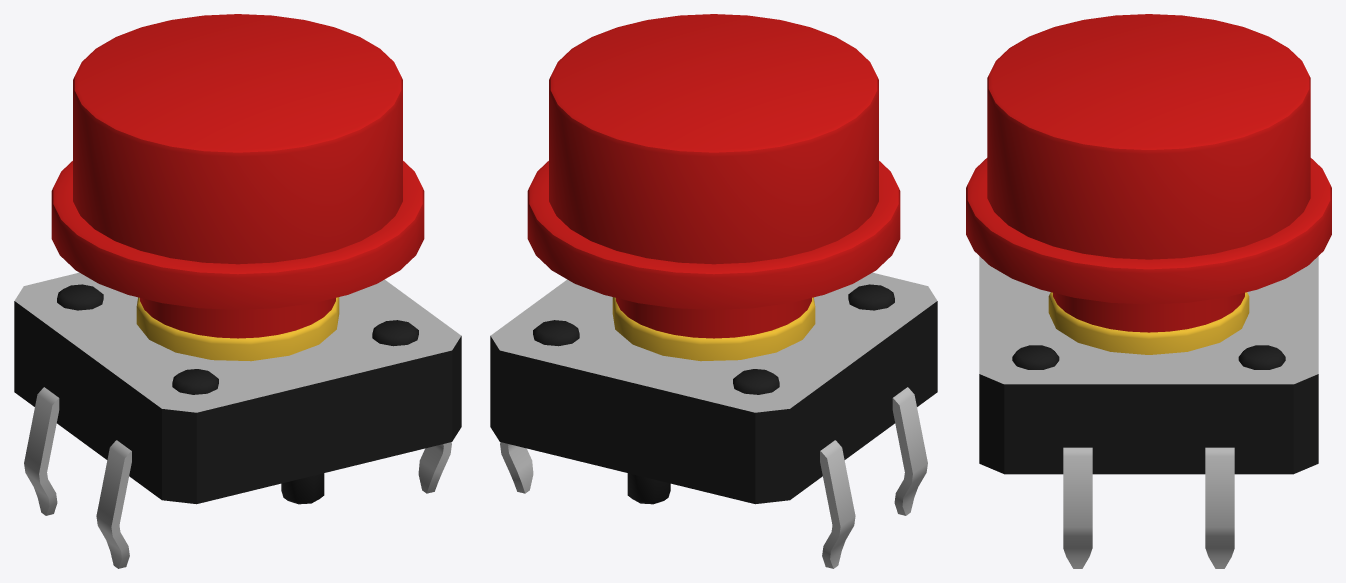
File: button.glb
3 views of the same model, side by side, from view 1: azimuth 30°, elevation 25°; view 2: azimuth 150°, elevation 25°; view 3: azimuth 270°, elevation 25° (orthographic).
Visible parts, largest first — view 1: button cap_2, switch_0, pins_1; view 2: button cap_2, switch_0, pins_1; view 3: button cap_2, switch_0, pins_1.
Boxes of the visible parts, <box> form: button cap_2: <box>51,14,424,338</box>; switch_0: <box>14,272,461,504</box>; pins_1: <box>24,387,451,568</box>; button cap_2: <box>527,14,900,338</box>; switch_0: <box>490,272,937,504</box>; pins_1: <box>500,387,927,568</box>; button cap_2: <box>966,14,1331,332</box>; switch_0: <box>979,256,1318,474</box>; pins_1: <box>1063,447,1234,568</box>.
Size of the model in its own units: 13.64 by 16.09 by 12.93.
